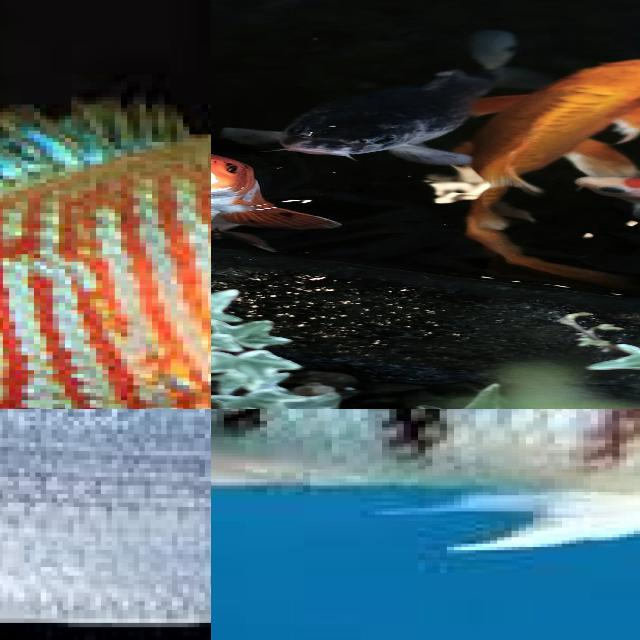fish: (0, 0, 211, 409), (211, 30, 640, 146), (0, 409, 211, 640), (211, 409, 640, 482)
